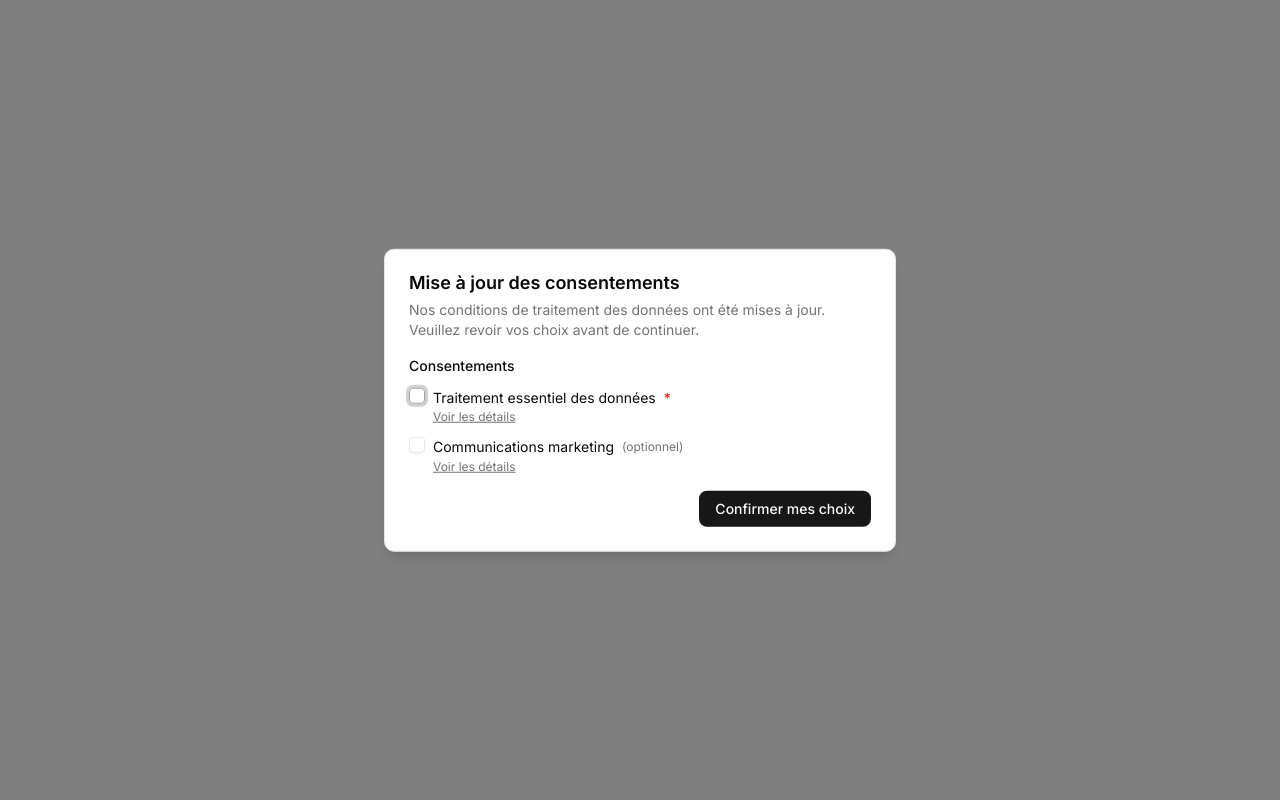
Scenario: ConsentReviewDialog › should show error on API failure
The width and height of the screenshot is (1280, 800).
Click the checkbox named "Traitement essentiel" next to "Traitement essentiel des données" at (417, 396), box [409,388,425,404]
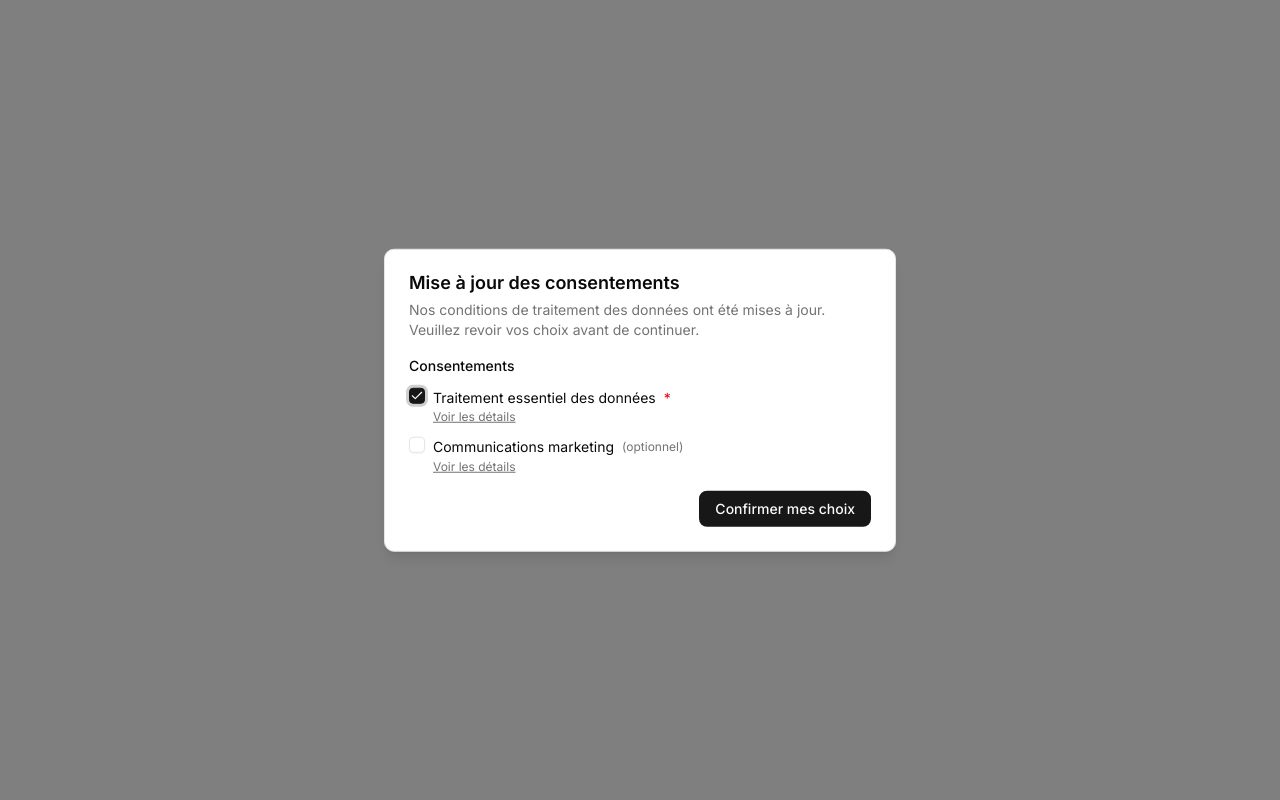
Click the button "Confirmer mes choix" at (785, 508), box [699,490,871,526]
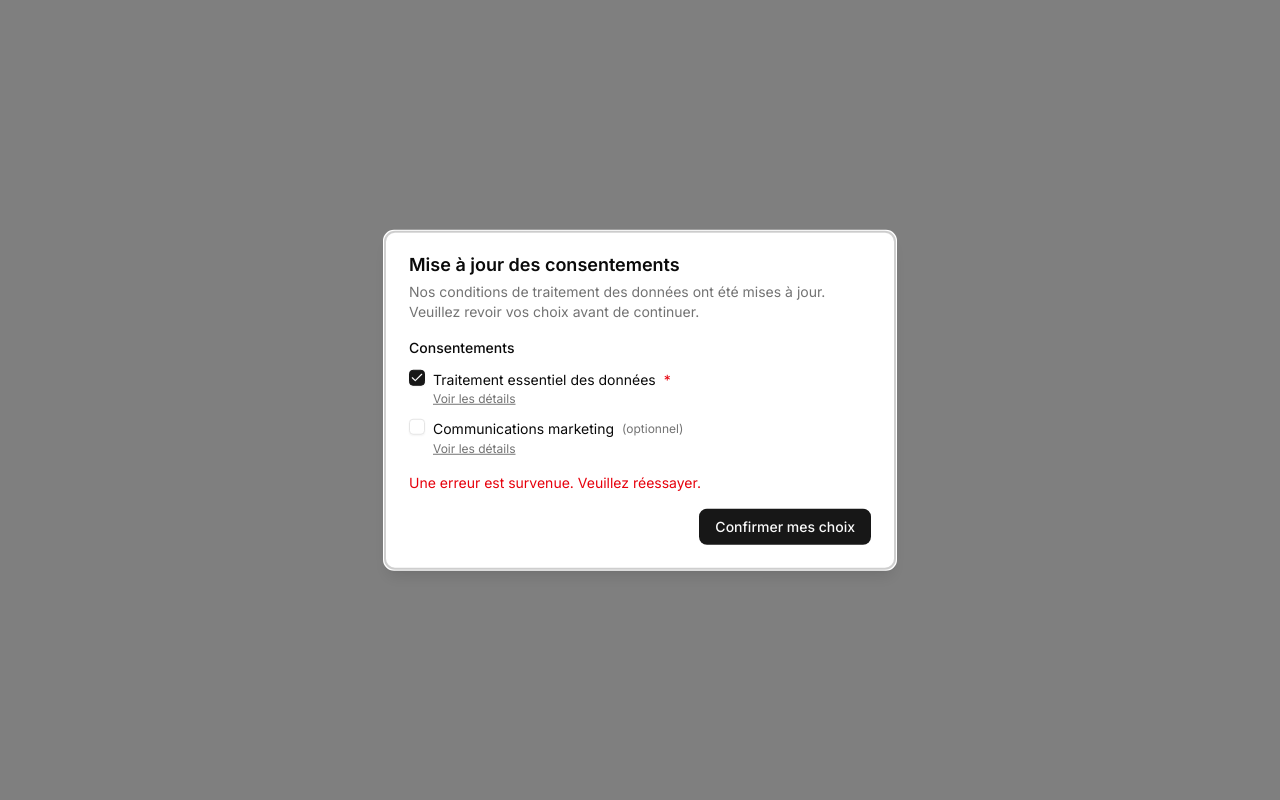
Check: the message "Une erreur est survenue. Veuillez réessayer." is shown, box [409,473,701,490]
